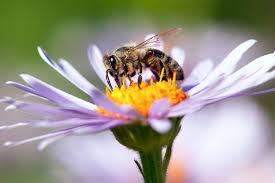Apis-mellifera-scutellata: (95, 25, 191, 87)
